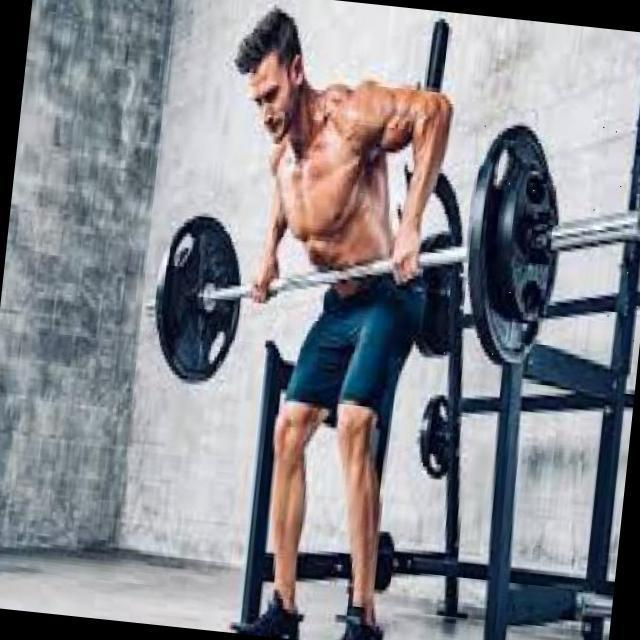barbell: (442, 111, 640, 389)
